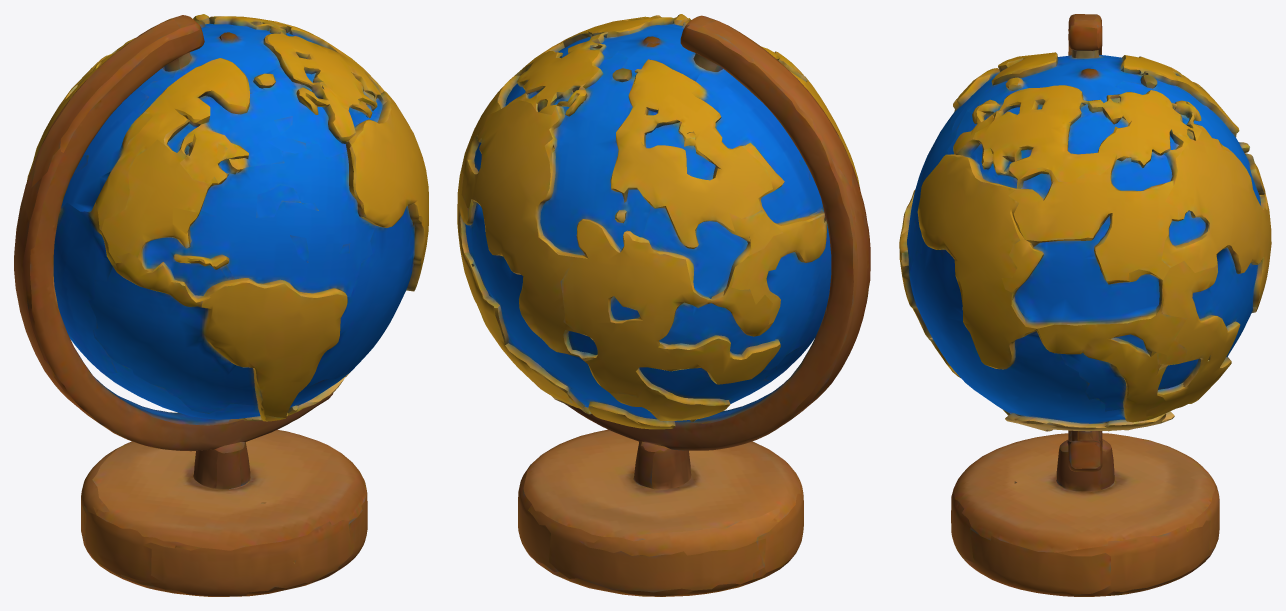
Rendered from x-globe.glb.
3 renders of one model, left to right at view 1: azimuth 30°, elevation 25°; view 2: azimuth 150°, elevation 25°; view 3: azimuth 270°, elevation 25°, orthographic. The views are drawn at different scales.
Parts seen in each view (by area): view 1: geometry_0; view 2: geometry_0; view 3: geometry_0.
Part boxes in pixels (x1=…): geometry_0: x1=14, y1=14, x2=428, y2=596; geometry_0: x1=457, y1=14, x2=870, y2=596; geometry_0: x1=899, y1=14, x2=1271, y2=596.
Size of the model in its own units: 0.1879 by 0.25 by 0.1682.
Materials: 1 (1 with a texture image).
